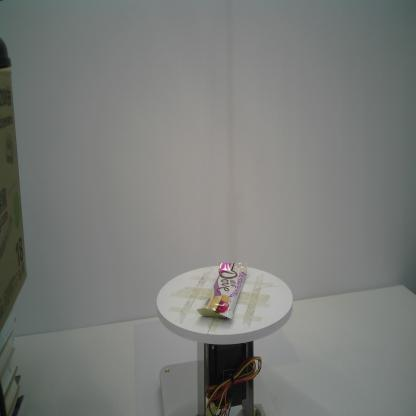Chocolate: (197, 261, 248, 319)
